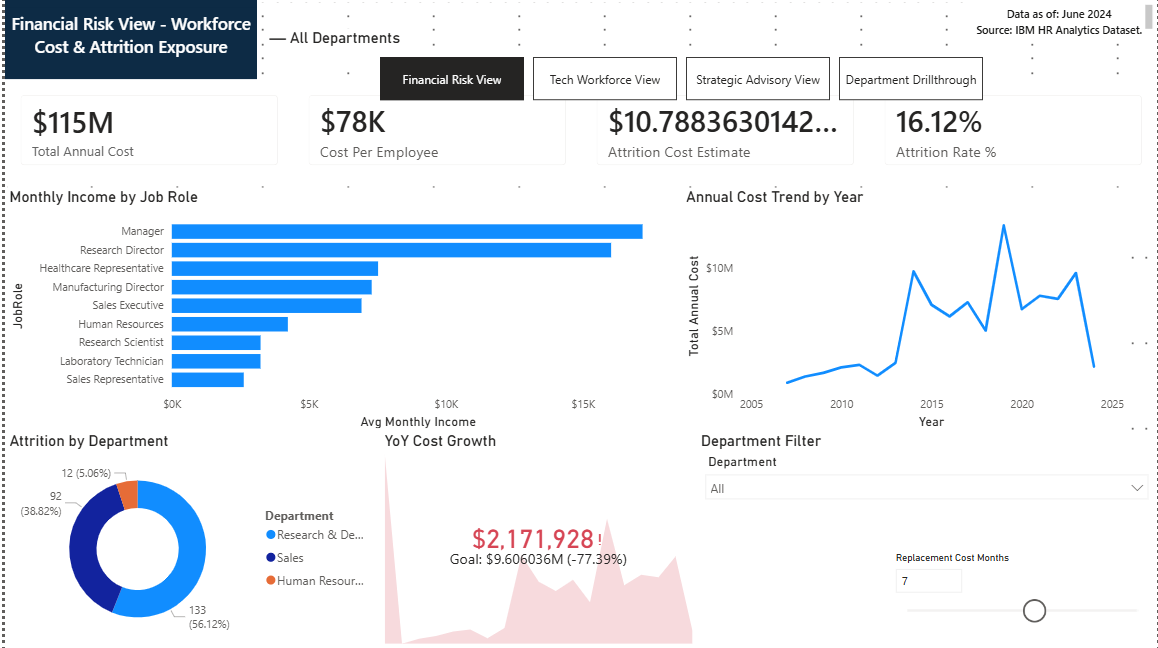

Layout of this report page (visuals, bound fields, positions):
{"tool":"powerbi","page":{"name":"Financial Risk View","canvas":[1280,720],"ordinal":0},"visuals":[{"type":"shape","box":[0,0,280,88],"z":0},{"type":"textbox","box":[0,8,280,64],"z":1000},{"type":"cardVisual","fields":{"Data":["_Measures.Total Annual Cost"]},"box":[0,88,320,112],"z":2000},{"type":"cardVisual","fields":{"Data":["_Measures.Cost Per Employee"]},"box":[320,88,320,112],"z":3000},{"type":"cardVisual","fields":{"Data":["_Measures.Attrition Cost Estimate"]},"box":[640,88,320,112],"z":4000},{"type":"cardVisual","fields":{"Data":["_Measures.Attrition Rate %"]},"box":[960,88,320,112],"z":5000},{"type":"clusteredBarChart","title":"Monthly Income by Job Role","fields":{"Category":["DimJobRole.JobRole"],"Y":["_Measures.Avg Monthly Income"]},"box":[0,208,752,272],"z":6000},{"type":"lineChart","title":"Annual Cost Trend by Year","fields":{"Category":["DimCalendar.Year"],"Y":["_Measures.Total Annual Cost"]},"box":[752,208,496,272],"z":7000},{"type":"donutChart","title":"Attrition by Department","fields":{"Category":["DimDepartment.Department"],"Y":["_Measures.Total Attrition"]},"box":[0,480,416,240],"z":8000},{"type":"kpi","title":"YoY Cost Growth","fields":{"Indicator":["_Measures.Total Annual Cost"],"Goal":["_Measures.LY Annual Cost"],"TrendLine":["DimCalendar.Year"]},"box":[416,480,352,240],"z":9000},{"type":"slicer","title":"Department Filter","fields":{"Values":["DimDepartment.Department"]},"box":[768,480,512,240],"z":10000},{"type":"textbox","box":[1072,0,208,48],"z":11000},{"type":"textbox","box":[288,32,160,48],"z":12000},{"type":"pageNavigator","box":[416,64,672,48],"z":13000},{"type":"slicer","fields":{"Values":["Replacement Cost Months.Replacement Cost Months"]},"box":[976,608,304,112],"z":14000}]}

Visuals, with their boxes in screenshot pixels (x1, y1, x2, y2), scaled from the page's 1280x720 canvas onto the 1158x648 screenshot:
shape: (left=0, top=0, right=253, bottom=79)
textbox: (left=0, top=7, right=253, bottom=65)
cardVisual - _Measures.Total Annual Cost: (left=0, top=79, right=290, bottom=180)
cardVisual - _Measures.Cost Per Employee: (left=290, top=79, right=579, bottom=180)
cardVisual - _Measures.Attrition Cost Estimate: (left=579, top=79, right=868, bottom=180)
cardVisual - _Measures.Attrition Rate %: (left=868, top=79, right=1157, bottom=180)
"Monthly Income by Job Role" clusteredBarChart: (left=0, top=187, right=680, bottom=432)
"Annual Cost Trend by Year" lineChart: (left=680, top=187, right=1129, bottom=432)
"Attrition by Department" donutChart: (left=0, top=432, right=376, bottom=647)
"YoY Cost Growth" kpi: (left=376, top=432, right=695, bottom=647)
"Department Filter" slicer: (left=695, top=432, right=1157, bottom=647)
textbox: (left=970, top=0, right=1157, bottom=43)
textbox: (left=261, top=29, right=405, bottom=72)
pageNavigator: (left=376, top=58, right=984, bottom=101)
slicer - Replacement Cost Months.Replacement Cost Months: (left=883, top=547, right=1157, bottom=647)
